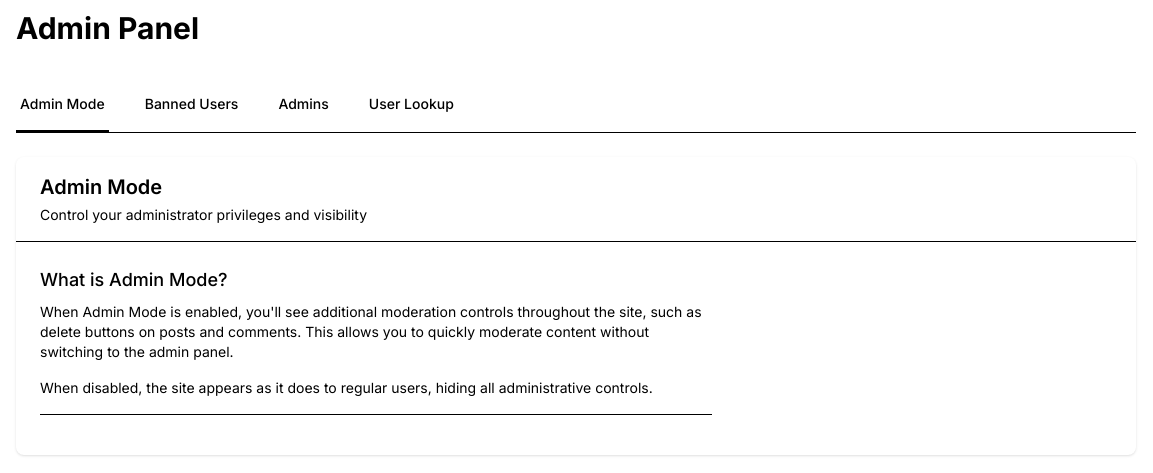
AdminPage › Banned Users Tab › shows loading state initially
# Click on Banned Users tab
Click the button "Banned Users" at (192, 105), box [141,78,242,132]
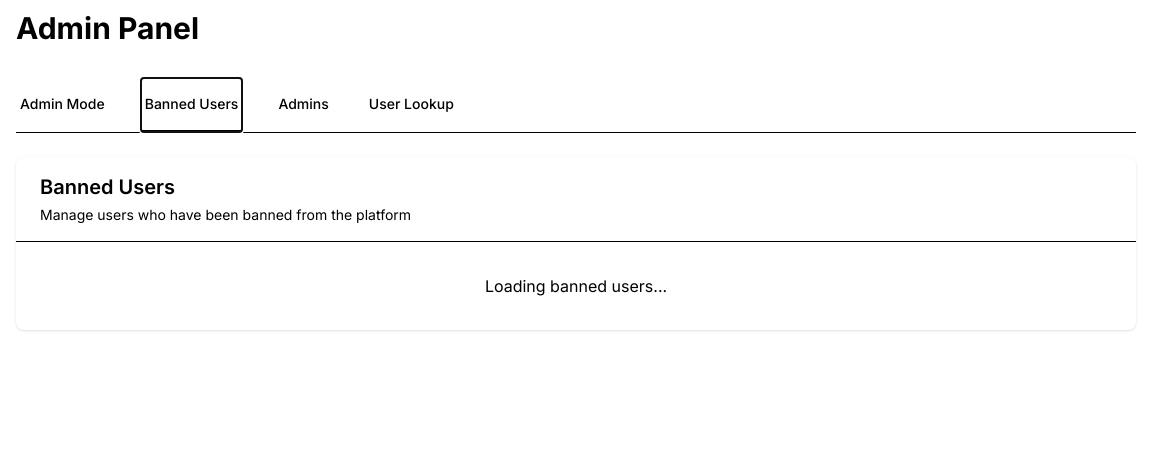
Now the text "Loading banned users..." is shown, box [485,276,667,296]
